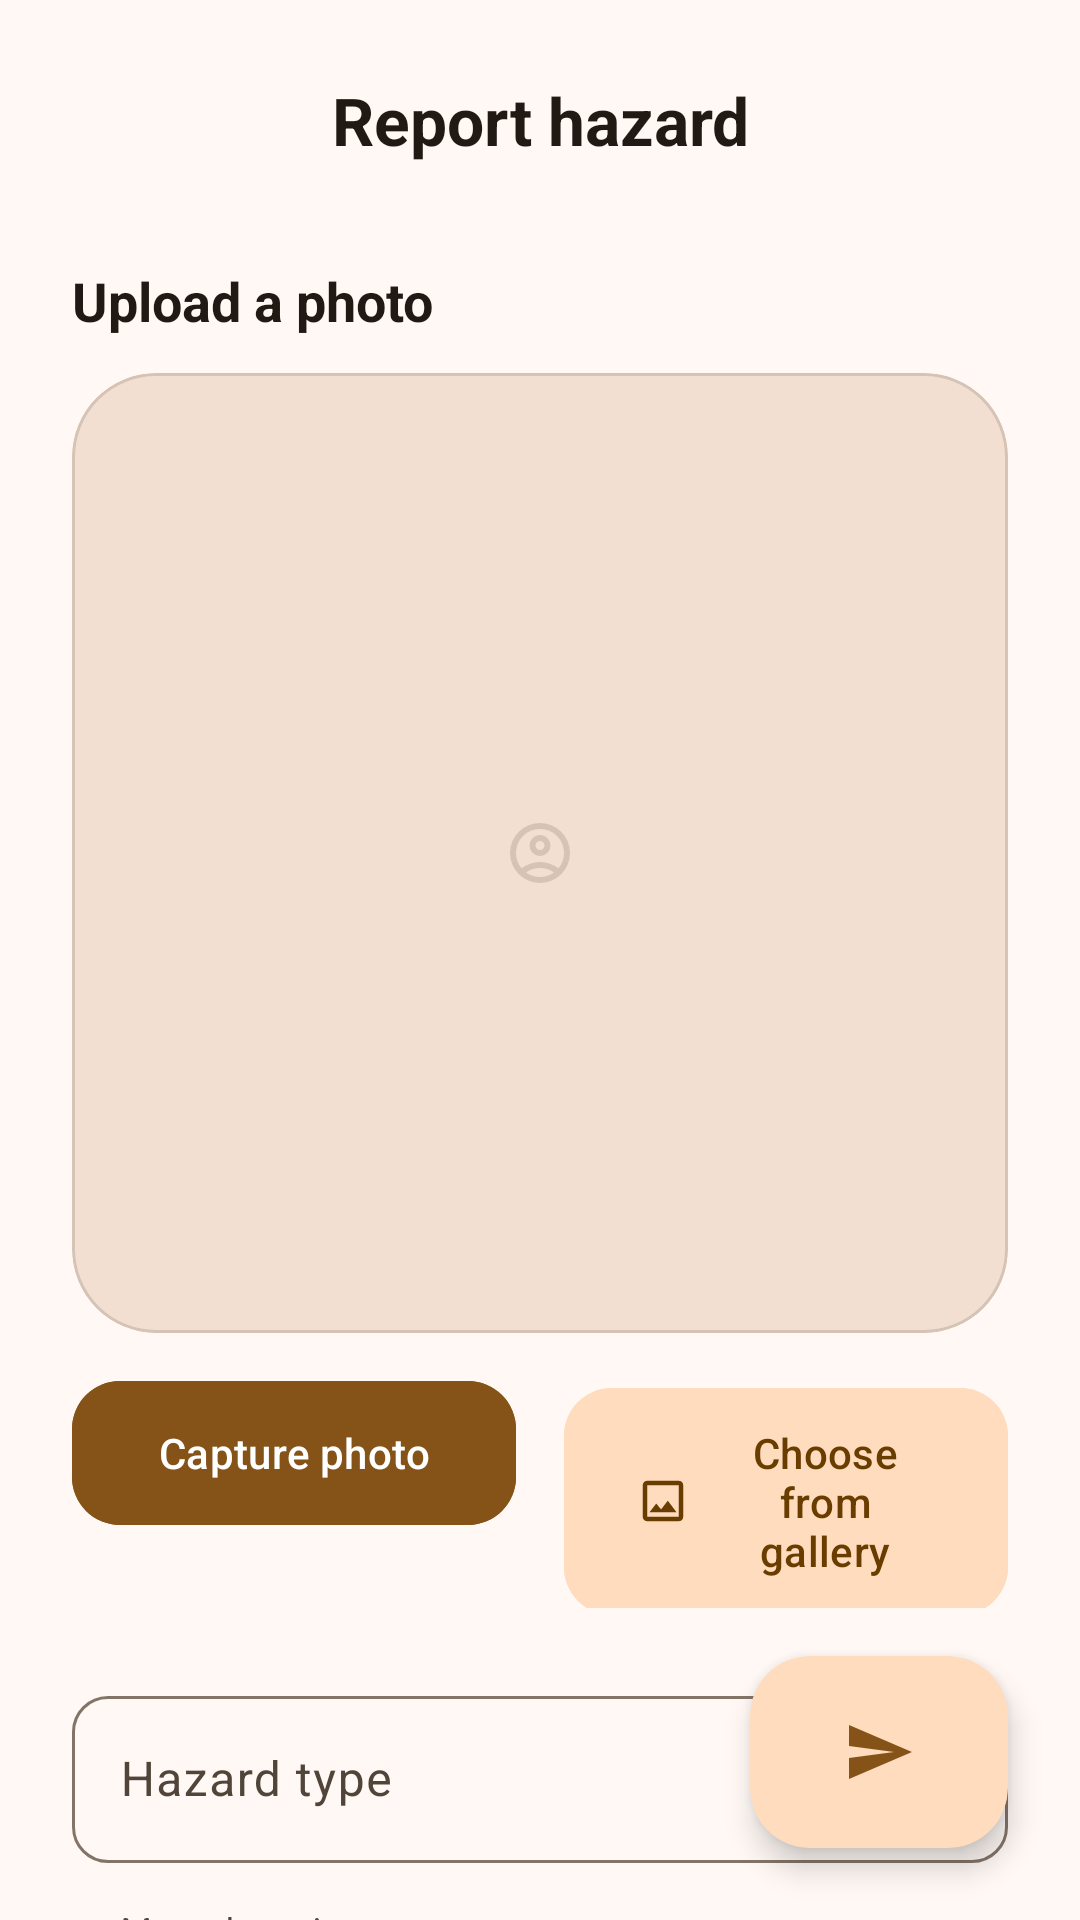

Screen size 1080*1920. Icon name, then its center in pixels as (x=x, y=y):
send: (x=880, y=1752)
